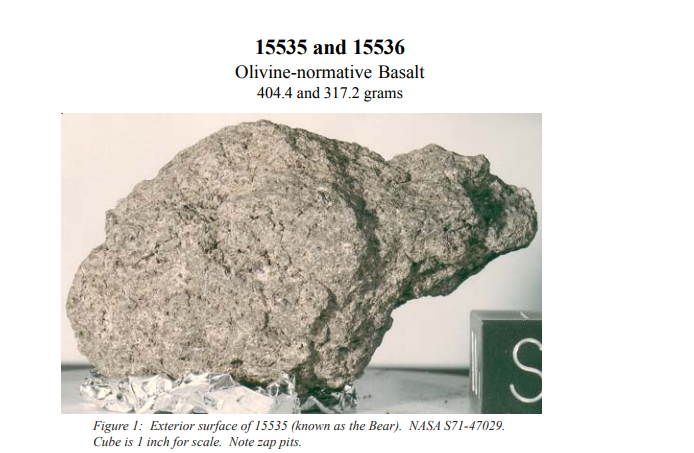Basalt: (81, 118, 415, 415)
